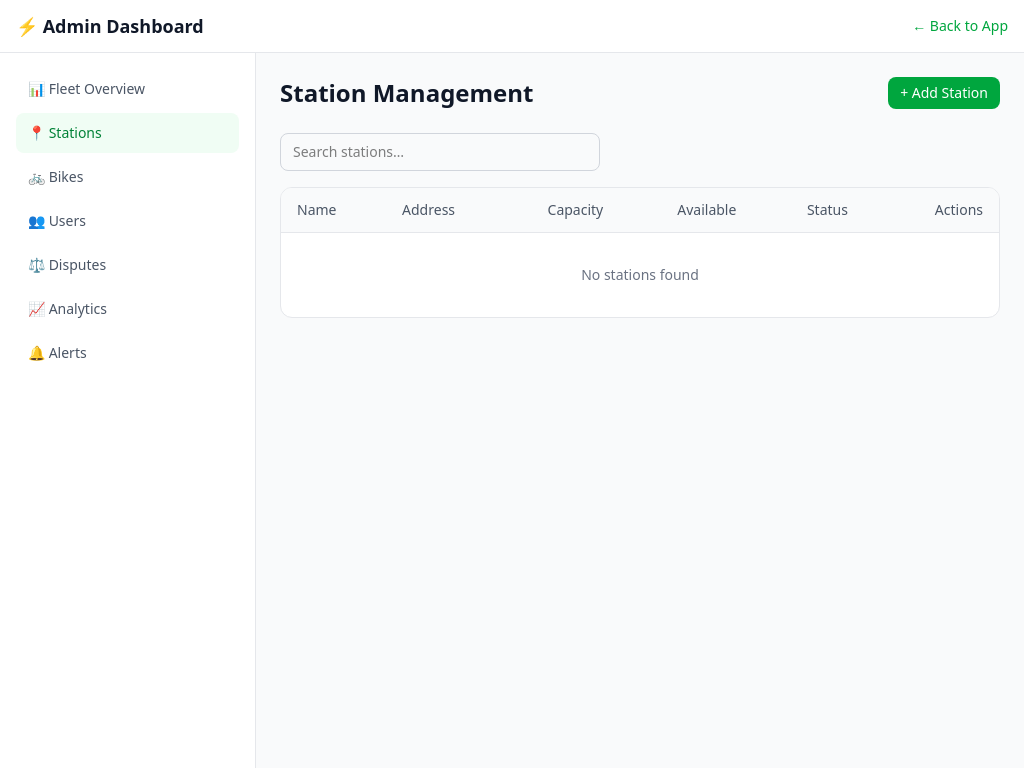
Test: StationManagement › shows error when station save fails
This screenshot has width=1024, height=768.
expect the heading "Station Management" is shown: met, box [280,77,534,109]
Click the button "+ Add Station" at (944, 93), box [888,77,1000,109]
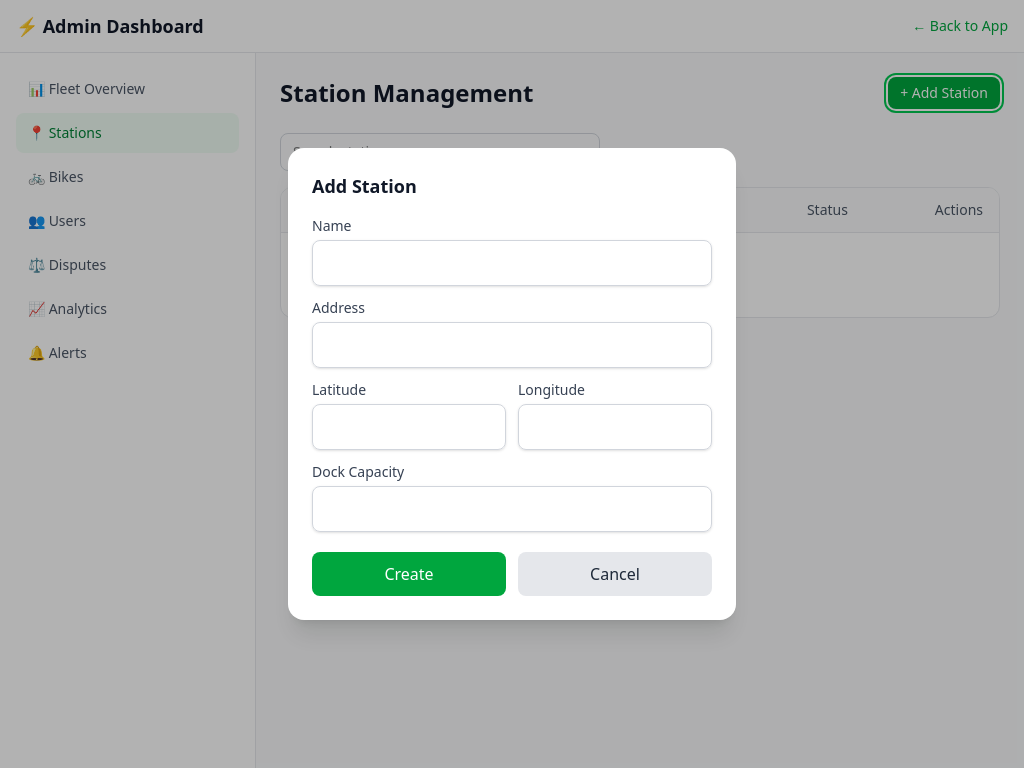
expect the heading "Add Station" is shown: met, box [312,174,417,198]
Type "Test" into the field labelled "Name" at (512, 263), box [312,240,712,286]
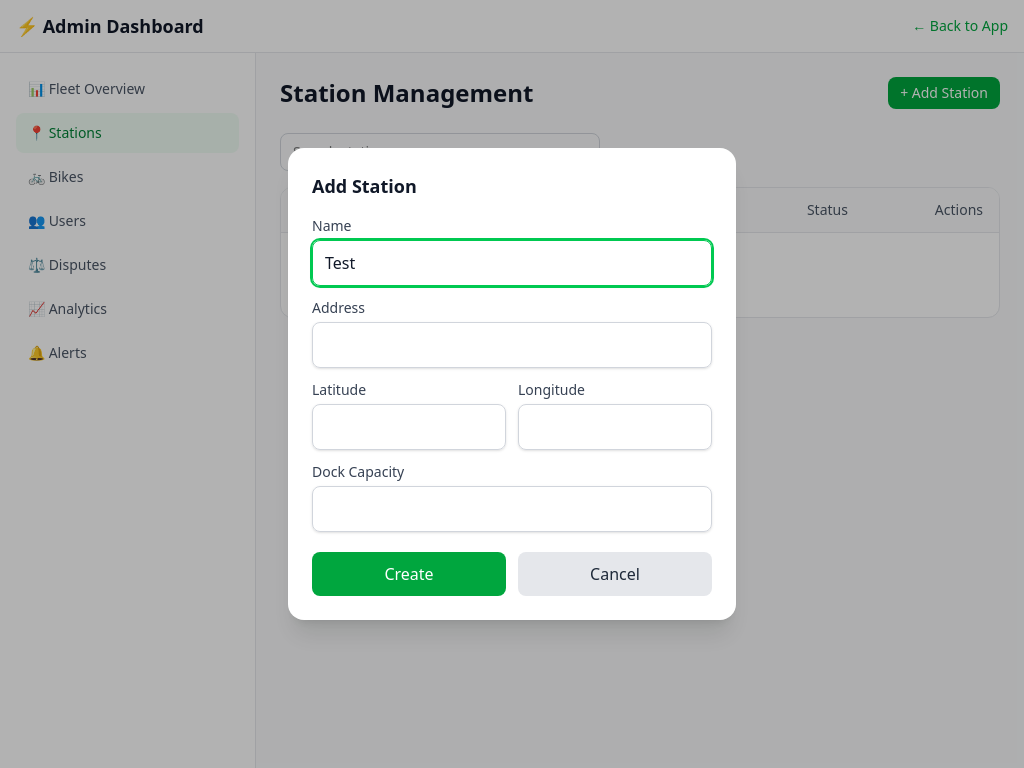
Type "123 St" into the field labelled "Address" at (512, 345), box [312,322,712,368]
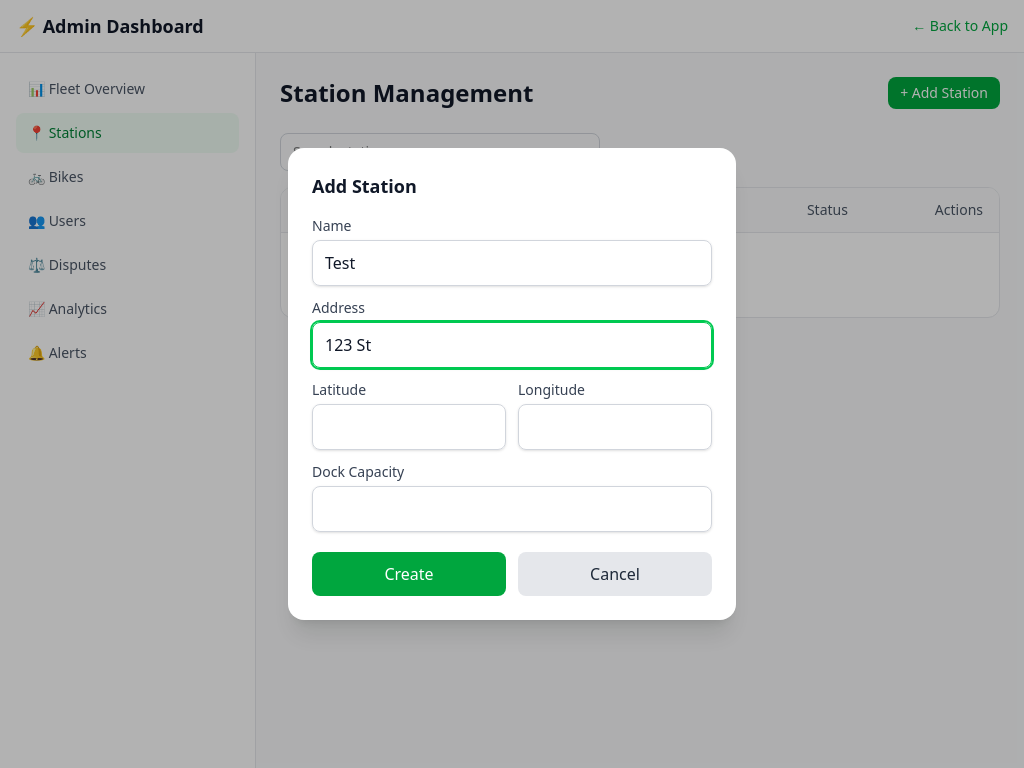
Fill lat/lng/capacity via fireEvent since they're number inputs
Type "40.7" into the number field labelled "Latitude" at (409, 427), box [312,404,506,450]
Type "-73.9" into the number field labelled "Longitude" at (615, 427), box [518,404,712,450]
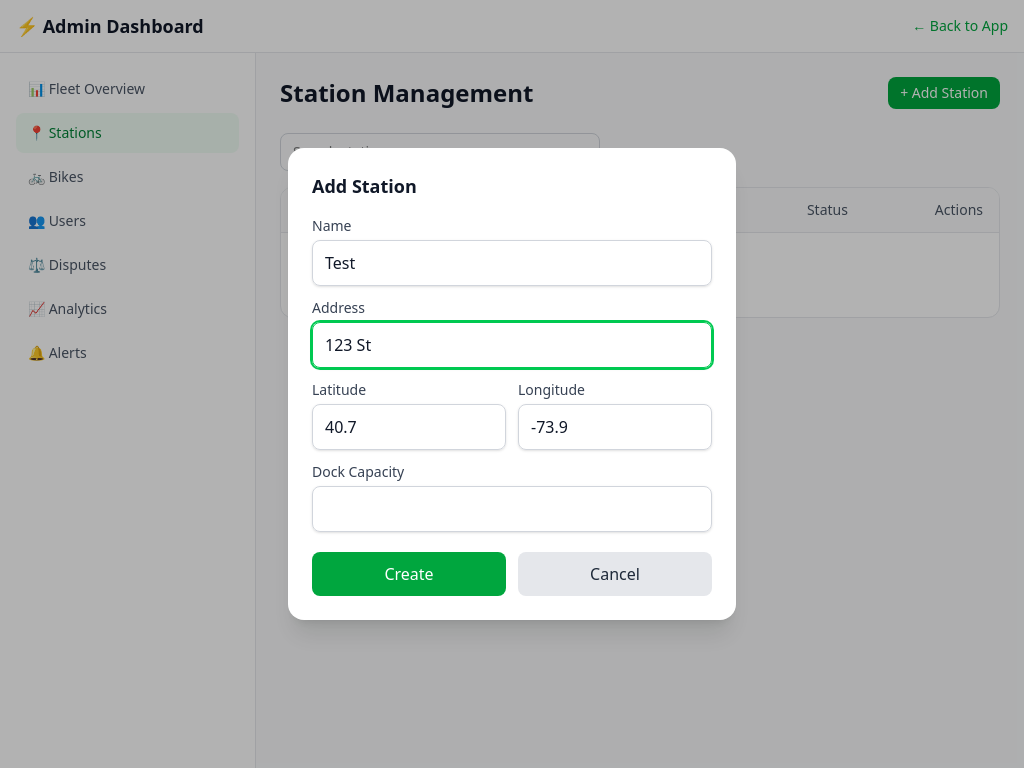
Type "10" into the number field labelled "Dock Capacity" at (512, 509), box [312,486,712,532]
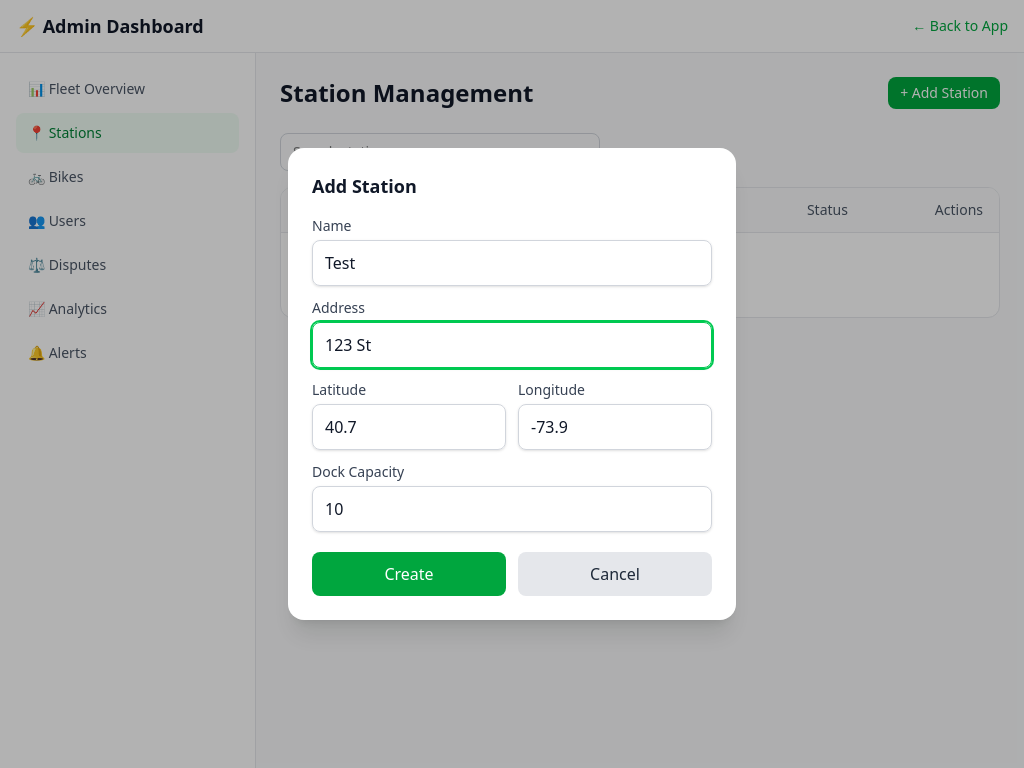
Click the button "Create" at (409, 574), box [312,552,506,596]
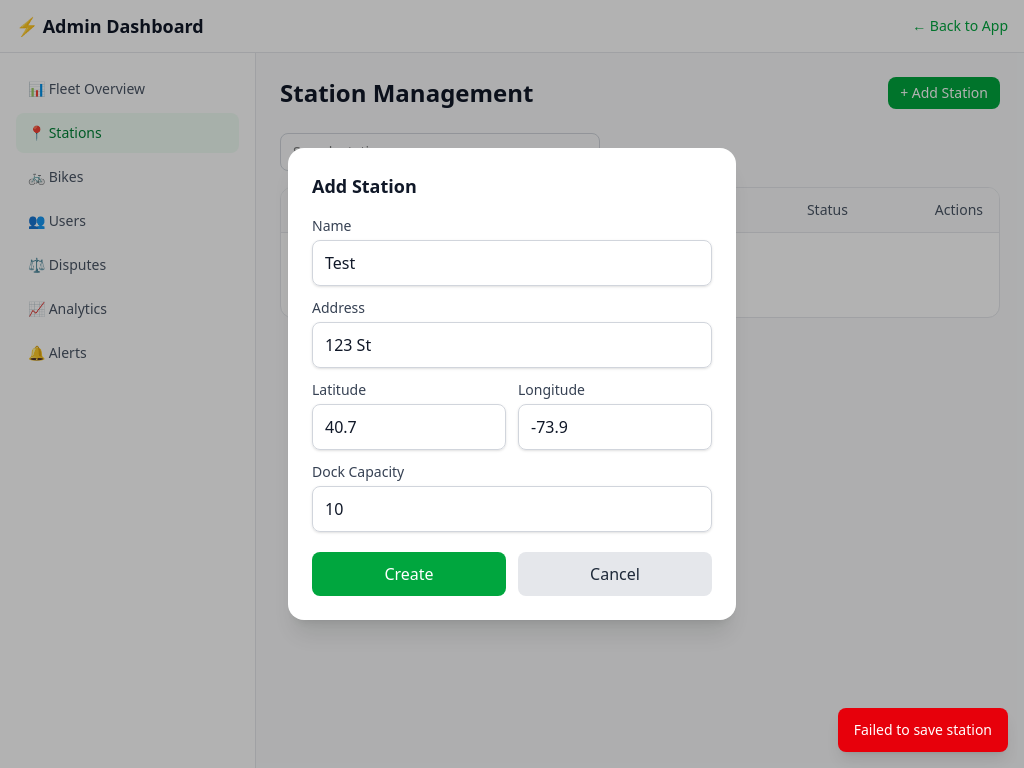
expect the button "Failed to save station" is shown: met, box [838,708,1008,752]
